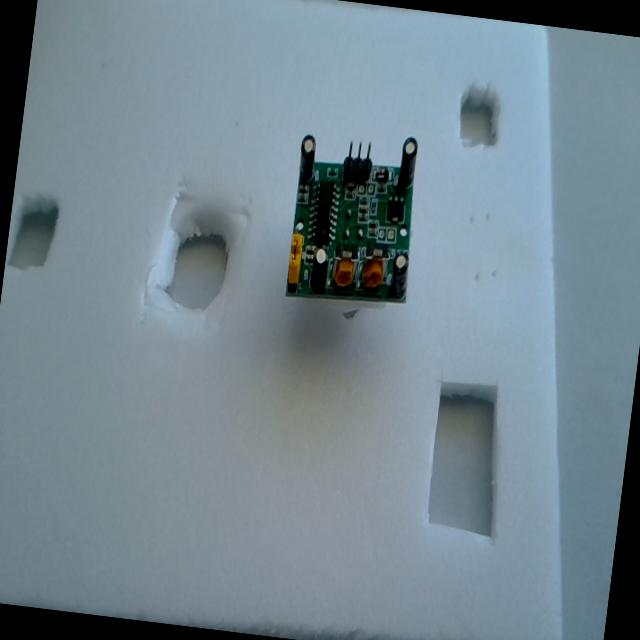Electrolytic capacitor: (397, 135, 419, 189), (296, 133, 318, 184), (390, 252, 410, 300), (309, 247, 329, 294)
IC: (306, 180, 340, 242)
pinheader: (342, 138, 374, 182)
